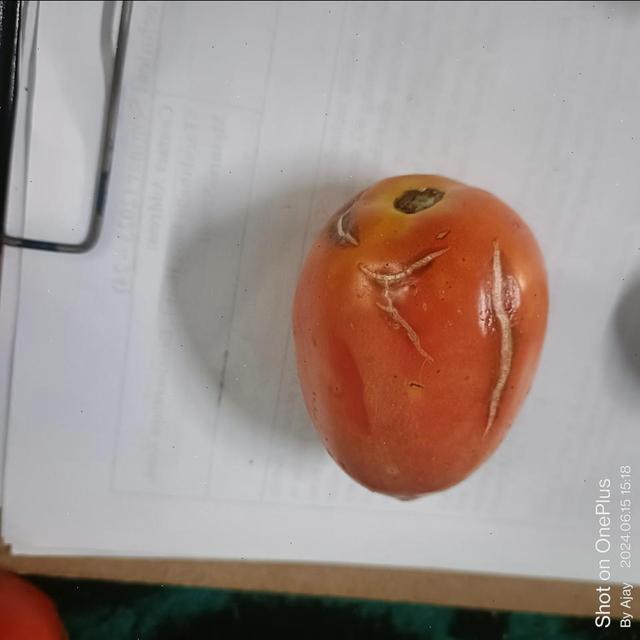Cracking Fruit: (234, 162, 325, 223)
